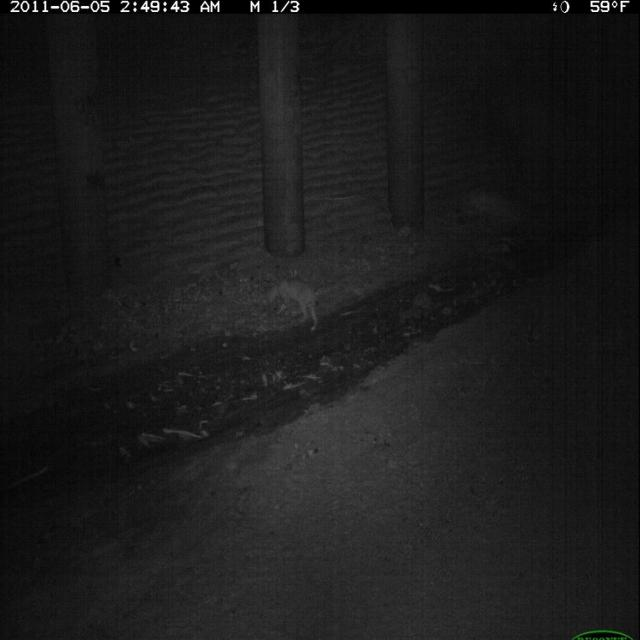bobcat: (263, 271, 324, 335)
